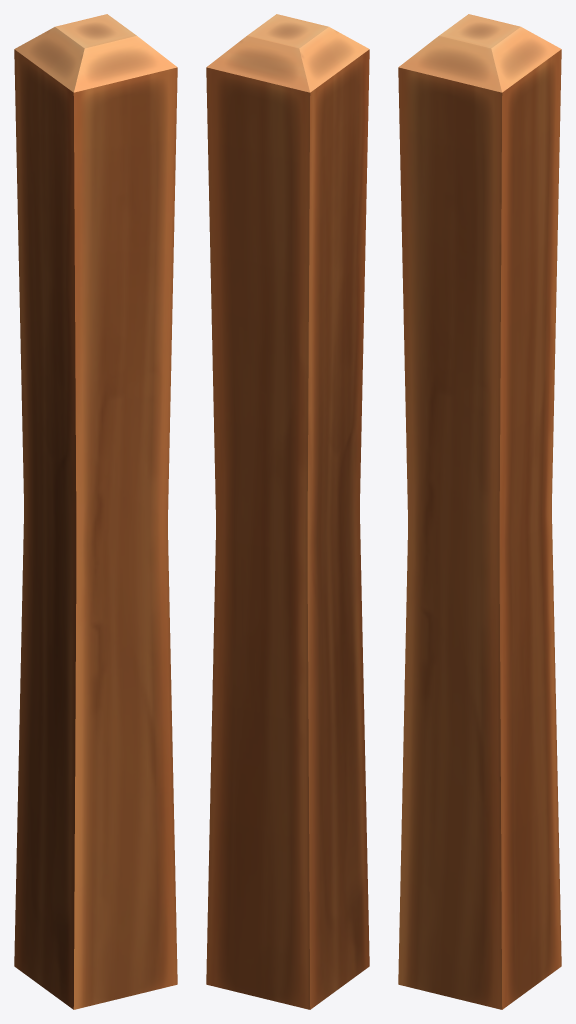
The model's file is Fences01_5.FBX.
The picture shows the model from 3 angles, left to right: view 1: azimuth 30°, elevation 25°; view 2: azimuth 150°, elevation 25°; view 3: azimuth 330°, elevation 25°; orthographic projection.
Visible parts, largest first — view 1: Fences01_5; view 2: Fences01_5; view 3: Fences01_5.
Part boxes in pixels (left/top/right/bottom): Fences01_5: left=14, top=14, right=177, bottom=1009; Fences01_5: left=206, top=14, right=369, bottom=1009; Fences01_5: left=398, top=14, right=561, bottom=1009.
Size of what is drawn, in the model's own units: 0.154 by 1.34 by 0.1528.
